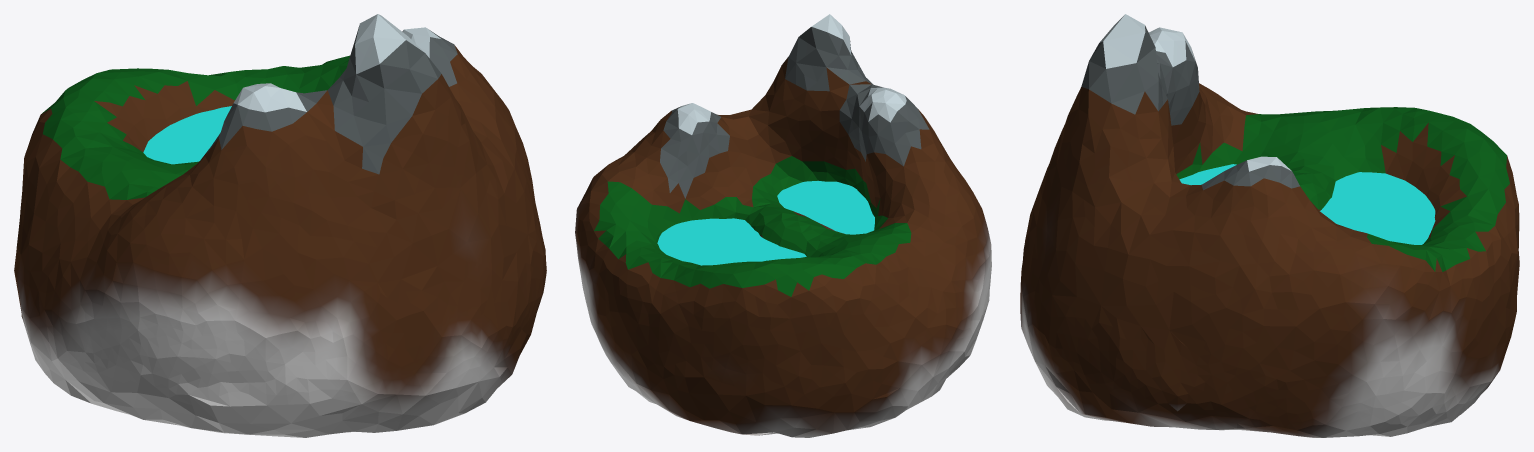
3 renders of one model, left to right at view 1: azimuth 30°, elevation 25°; view 2: azimuth 150°, elevation 25°; view 3: azimuth 270°, elevation 25°, orthographic. The views are drawn at different scales.
Parts seen in each view (by area): view 1: Icosphere, Plane; view 2: Icosphere, Plane; view 3: Icosphere, Plane.
Part boxes in pixels (left/top/right/bottom): Icosphere: left=14, top=14, right=546, bottom=437; Plane: left=143, top=106, right=231, bottom=164; Icosphere: left=575, top=14, right=991, bottom=437; Plane: left=657, top=180, right=874, bottom=265; Icosphere: left=1020, top=14, right=1519, bottom=437; Plane: left=1179, top=164, right=1435, bottom=244.
Bounding box in the file's own units: 7.09 × 5.99 × 7.02.
